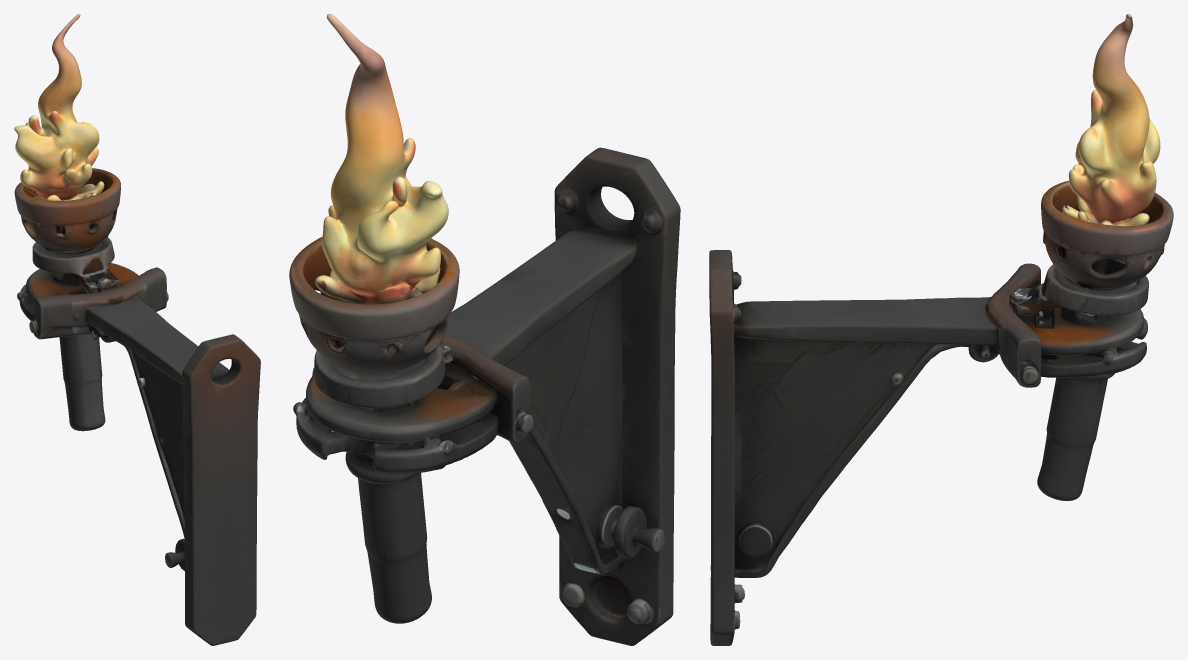
File: prop-torch-wall.glb
3 views of the same model, side by side, from view 1: azimuth 30°, elevation 25°; view 2: azimuth 150°, elevation 25°; view 3: azimuth 270°, elevation 25° (orthographic). The views are drawn at different scales.
Parts seen in each view (by area): view 1: tripo_node_98d05364-806d-40ea-a7eb-7d26417de7fd; view 2: tripo_node_98d05364-806d-40ea-a7eb-7d26417de7fd; view 3: tripo_node_98d05364-806d-40ea-a7eb-7d26417de7fd.
Boxes of the visible parts, box(x1,y1,x2,y2) form: tripo_node_98d05364-806d-40ea-a7eb-7d26417de7fd: box(14, 14, 260, 645); tripo_node_98d05364-806d-40ea-a7eb-7d26417de7fd: box(289, 14, 680, 645); tripo_node_98d05364-806d-40ea-a7eb-7d26417de7fd: box(709, 14, 1173, 645).
Size of the model in its own units: 0.4192 by 1.5 by 0.9934.
Materials: 1 (1 with a texture image).
